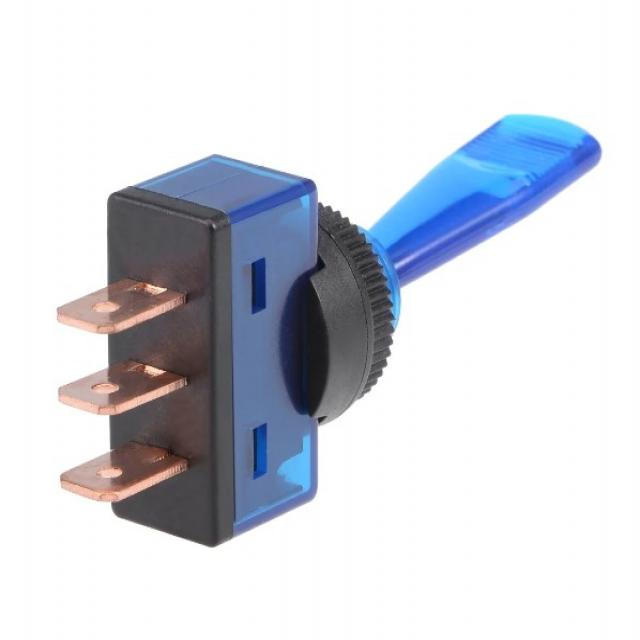toggle switch: (312, 113, 603, 412)
